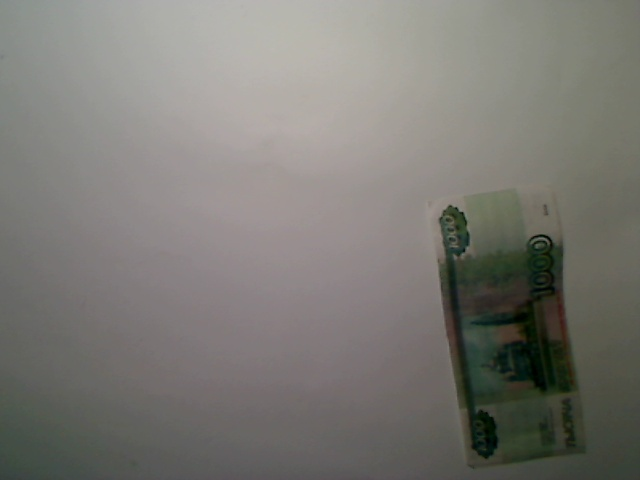banknotes: (421, 181, 588, 474)
